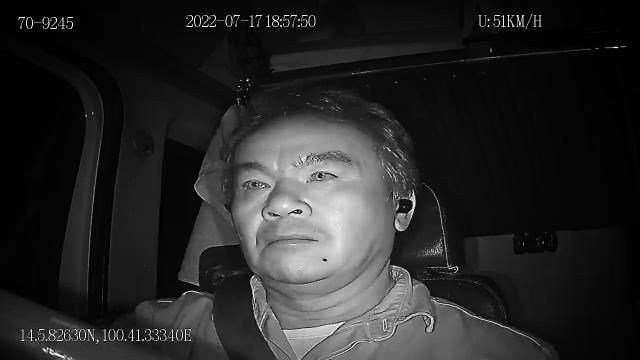SafeDriving: (300, 157, 344, 188), (236, 166, 278, 198)
Seatbelt: (210, 270, 282, 360)
